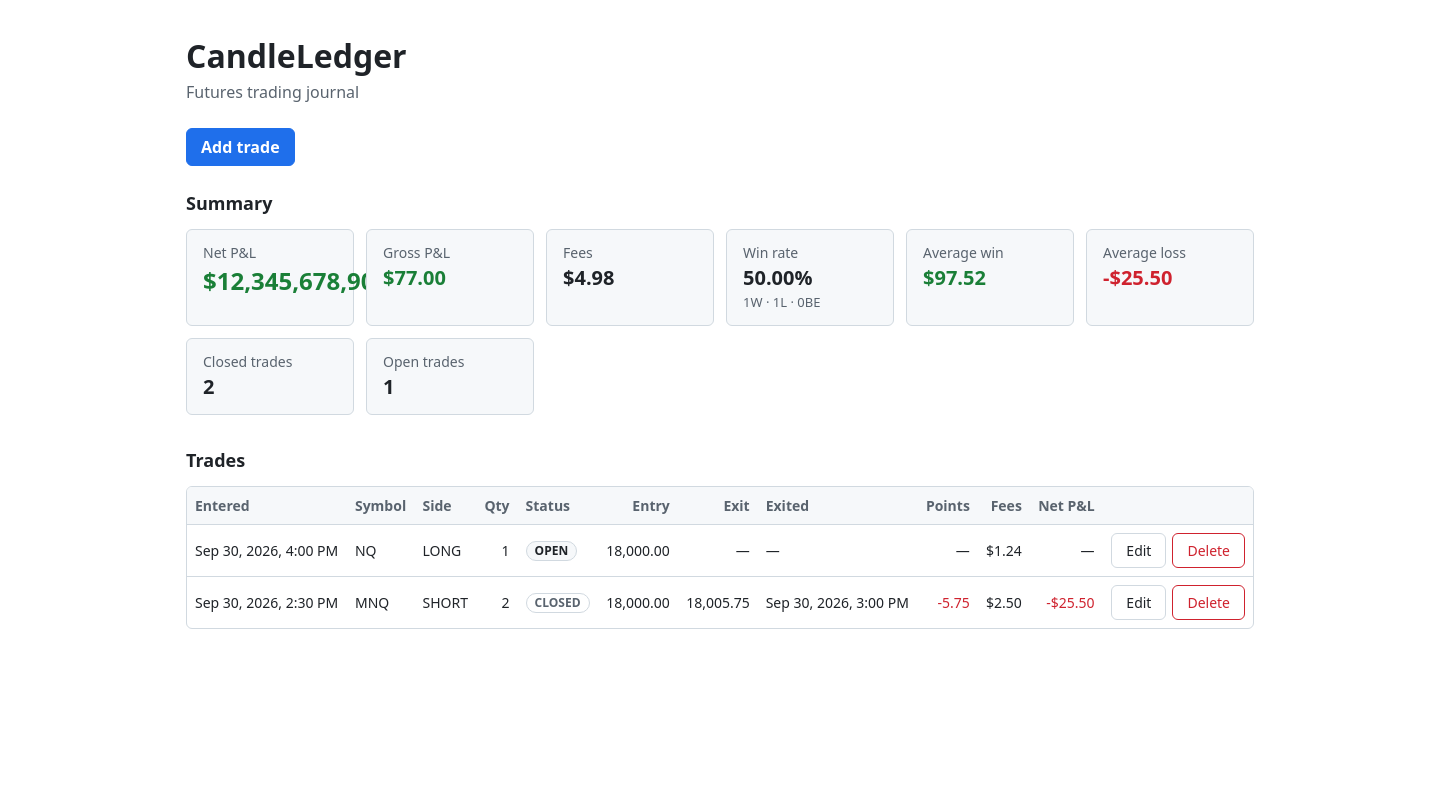
Test: Edit trade › keeps Edit disabled until the reloaded trades arrive
Check: the table is shown, box [187, 486, 1253, 628]
Click the button with aria-label "Edit MNQ SHORT": point(1139, 602) [1111, 584, 1166, 620]
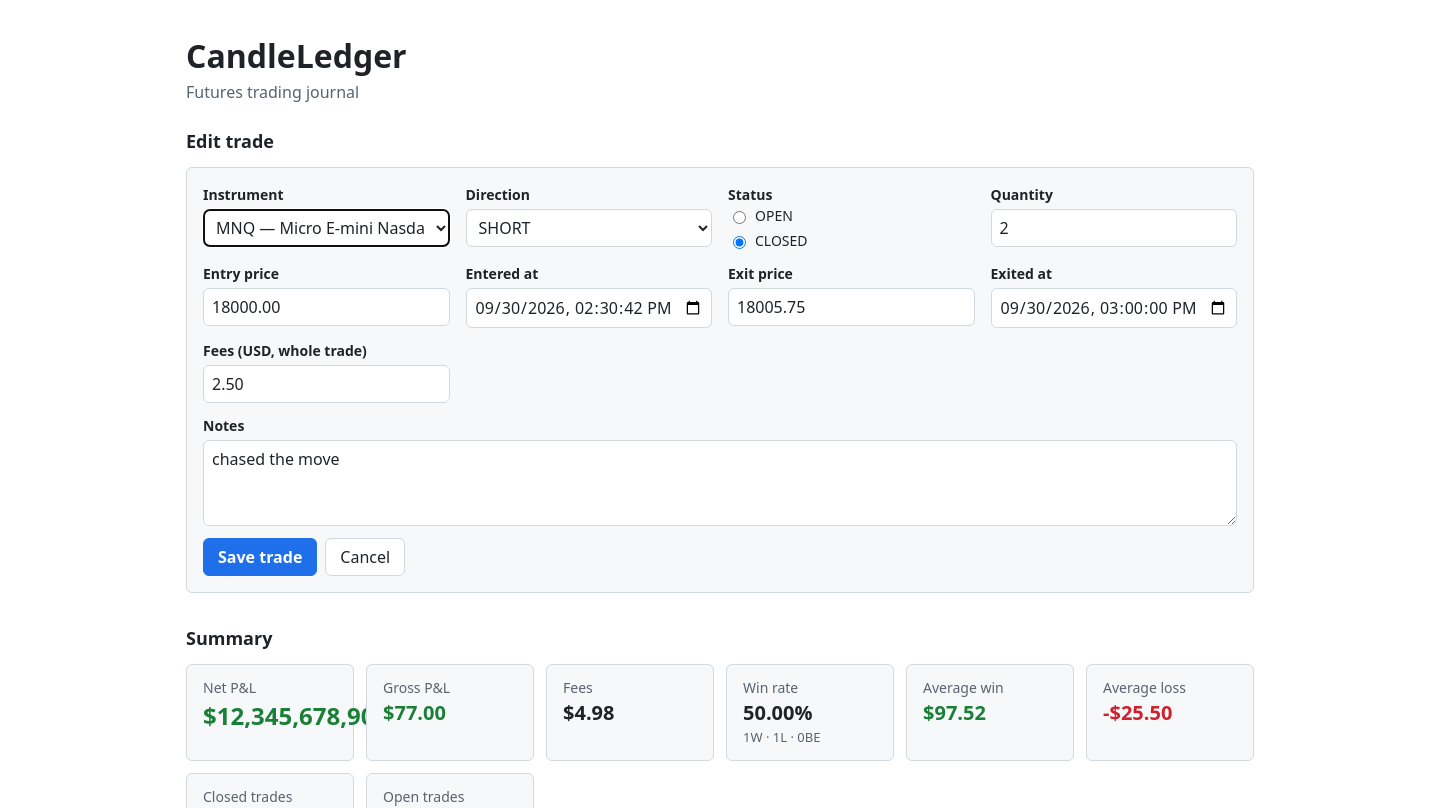
Click the button "Save trade": point(260, 557) [203, 538, 317, 576]
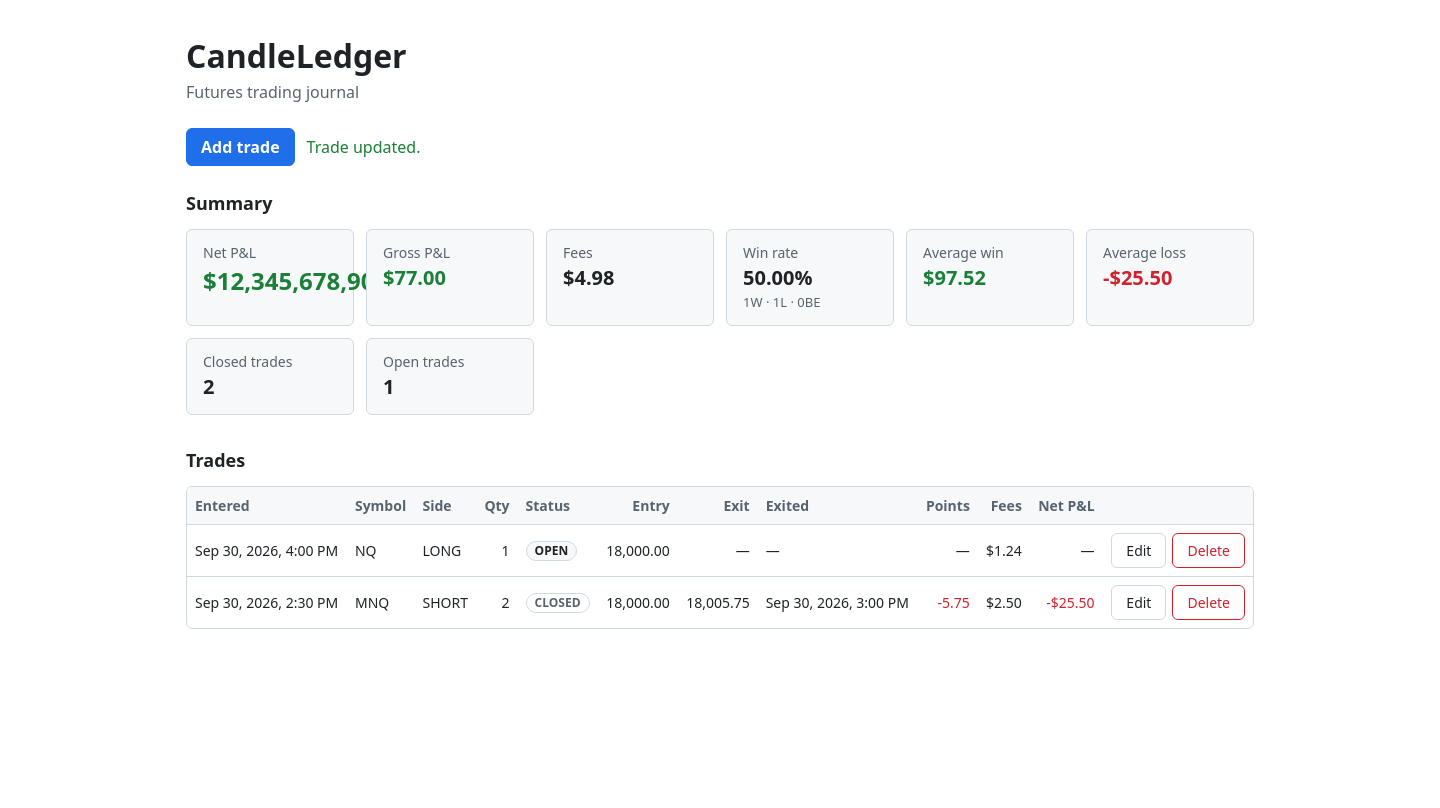
Check: the text "Trade updated." is shown, box [307, 135, 420, 159]
